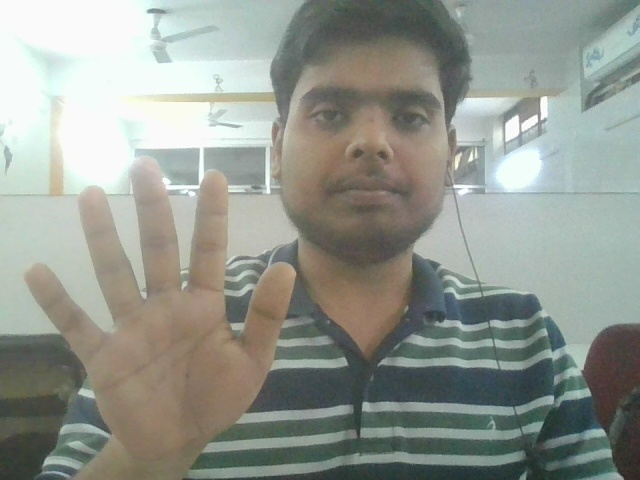Hello: (19, 148, 313, 466)
